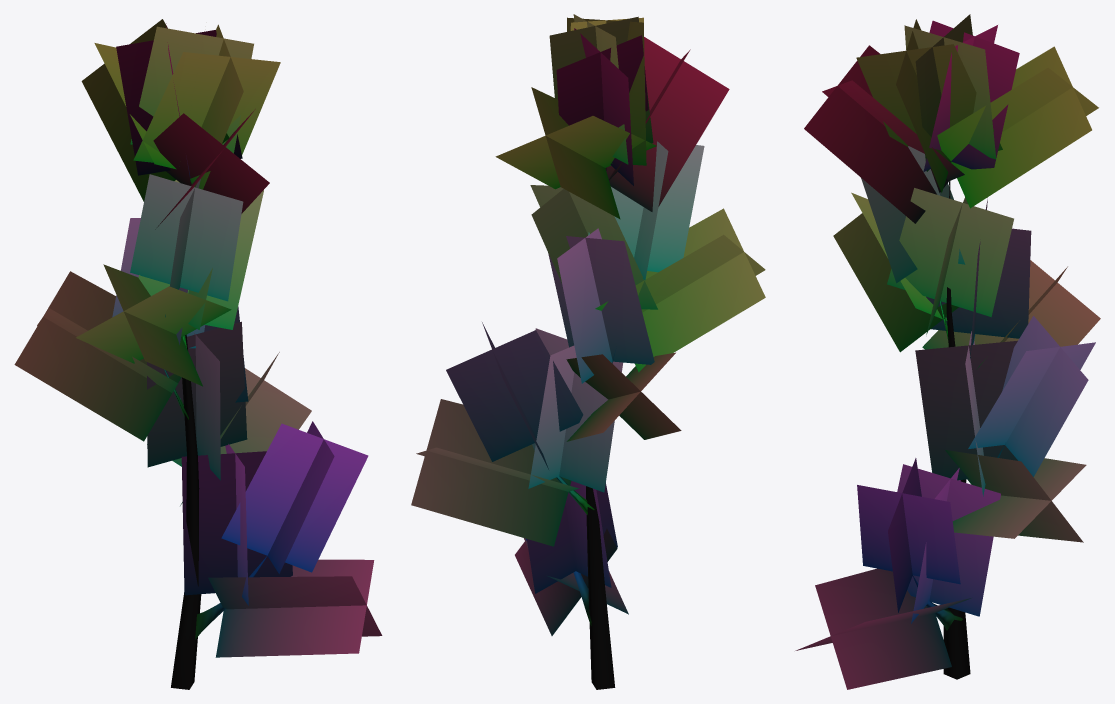
The model's file is SuperTree_24.fbx.
The picture shows the model from 3 angles, left to right: view 1: azimuth 30°, elevation 25°; view 2: azimuth 150°, elevation 25°; view 3: azimuth 270°, elevation 25°; orthographic projection.
Parts seen in each view (by area): view 1: SuperTree_24; view 2: SuperTree_24; view 3: SuperTree_24.
Part boxes in pixels (left/top/right/bottom): SuperTree_24: left=14, top=19, right=382, bottom=689; SuperTree_24: left=411, top=14, right=765, bottom=689; SuperTree_24: left=795, top=14, right=1100, bottom=689.
Size of the model in its own units: 574 by 1229 by 525.
